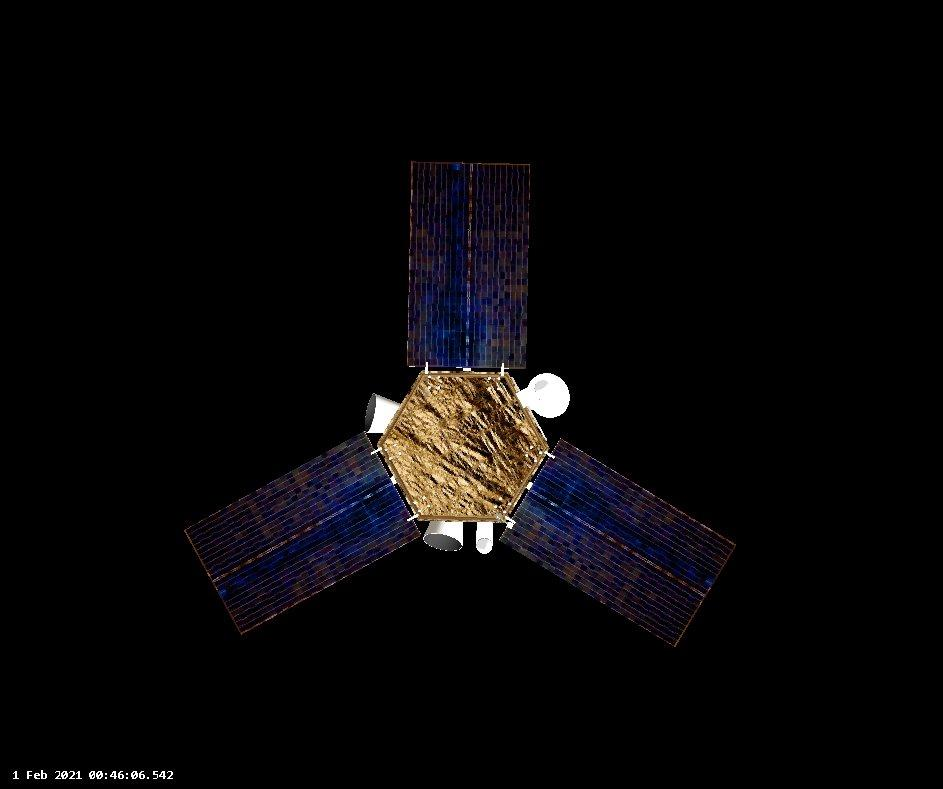antenna: (517, 370, 570, 421), (474, 513, 497, 557)
body: (374, 364, 550, 525)
solar: (499, 438, 739, 649), (178, 430, 423, 636), (402, 156, 534, 370)
thruster: (361, 390, 404, 435), (422, 515, 465, 556)
